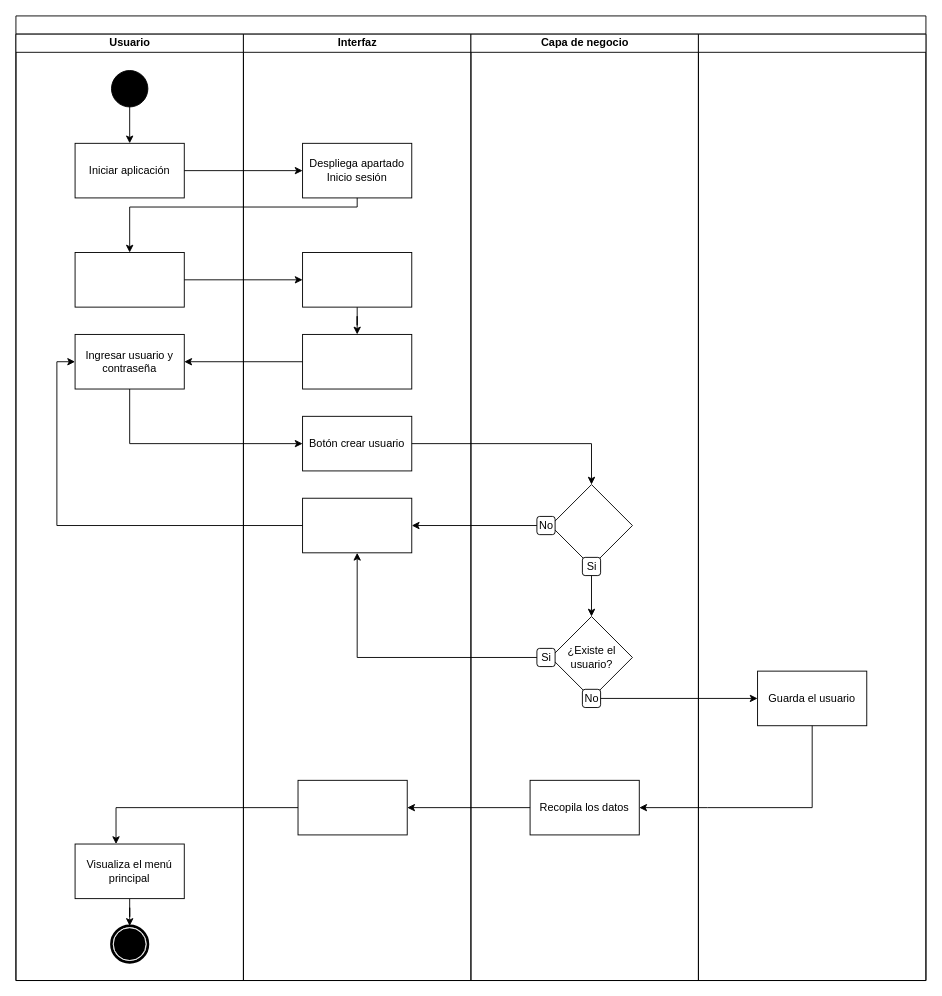
Image size: 942x996. Some labels were removed from this diagram. The shapes that lost their labels are listed below. From the top down, each one's box as (x1, y1, x2, y2) in pixels, then its label:
(74, 252, 184, 307): Ingresar Registro de usuario
(302, 252, 412, 307): Botón registro de usuario
(302, 334, 412, 389): Despliegue apartado registro de usuario
(302, 497, 412, 553): Mensaje de error de usuario y/o contraseña
(550, 484, 632, 566): ¿Campos completos?
(698, 33, 926, 981): Base de datos
(297, 779, 407, 835): Mensaje de usuario creado con exito
